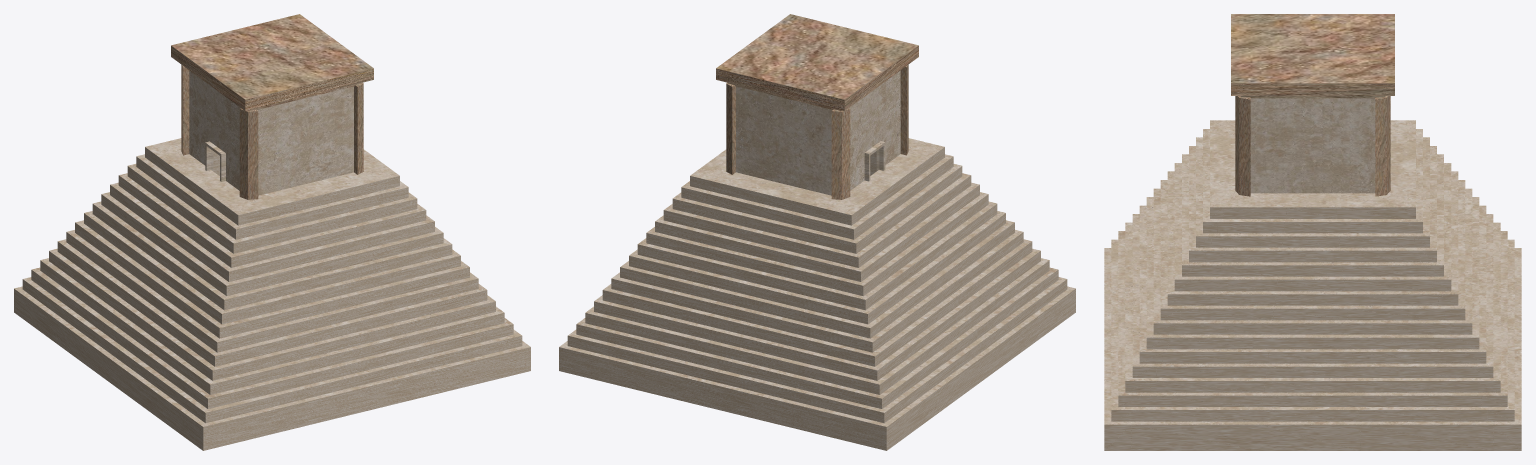
The picture shows the model from 3 angles, left to right: view 1: azimuth 30°, elevation 25°; view 2: azimuth 150°, elevation 25°; view 3: azimuth 270°, elevation 25°; orthographic projection. The views are drawn at different scales.
Visible parts, largest first — view 1: BASE, BUILDING, BUILDING_ROOF, PILLAR_1, PILLAR_2, PILLAR_3; view 2: BASE, BUILDING, BUILDING_ROOF, PILLAR_3, PILLAR_4, PILLAR_1; view 3: BASE, BUILDING_ROOF, BUILDING, PILLAR_2, PILLAR_4.
Boxes of the visible parts, x1=… form: BASE: x1=14, y1=138, x2=530, y2=450; BUILDING: x1=189, y1=70, x2=353, y2=195; BUILDING_ROOF: x1=171, y1=14, x2=373, y2=111; PILLAR_1: x1=239, y1=108, x2=258, y2=199; PILLAR_2: x1=354, y1=82, x2=363, y2=174; PILLAR_3: x1=181, y1=64, x2=189, y2=155; BASE: x1=559, y1=138, x2=1075, y2=450; BUILDING: x1=736, y1=70, x2=900, y2=195; BUILDING_ROOF: x1=716, y1=14, x2=918, y2=111; PILLAR_3: x1=831, y1=108, x2=850, y2=199; PILLAR_4: x1=726, y1=82, x2=735, y2=174; PILLAR_1: x1=900, y1=64, x2=908, y2=155; BASE: x1=1104, y1=120, x2=1521, y2=450; BUILDING_ROOF: x1=1231, y1=14, x2=1394, y2=98; BUILDING: x1=1250, y1=98, x2=1375, y2=193; PILLAR_2: x1=1235, y1=96, x2=1250, y2=196; PILLAR_4: x1=1375, y1=96, x2=1390, y2=196.
Bounding box in the file's own units: 592 × 492 × 592.
4 materials, 4 textured.
